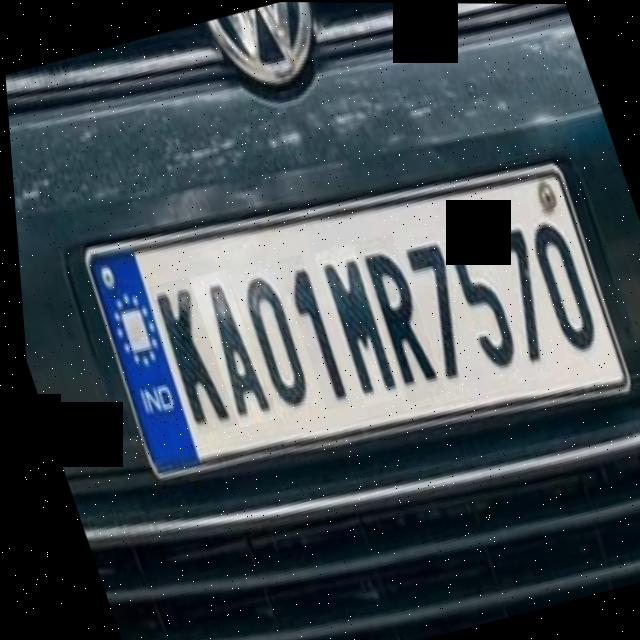0: (224, 259, 312, 415), (517, 204, 603, 356)
1: (272, 253, 346, 409)
5: (434, 222, 522, 377)
7: (393, 231, 479, 386), (477, 211, 562, 367)
A: (184, 268, 269, 427)
K: (143, 276, 232, 435)
M: (308, 242, 399, 406)
R: (350, 232, 441, 403)
